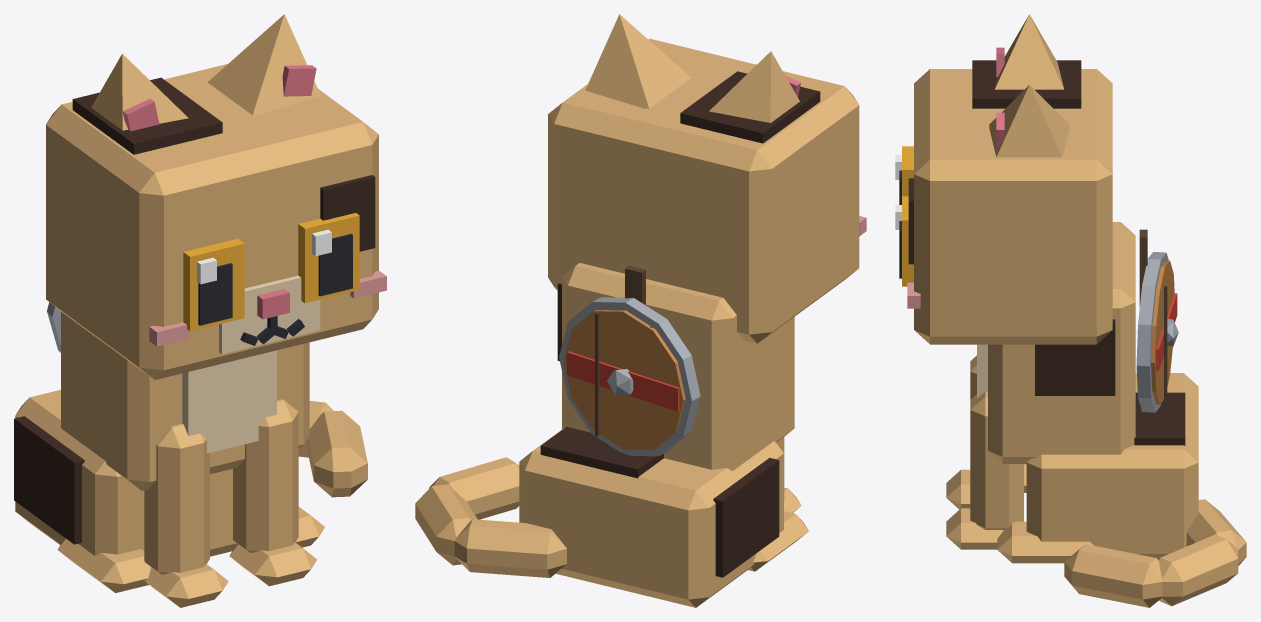
The model's file is CatCafe_Cat_Squire_Sit.glb.
3 renders of one model, left to right at view 1: azimuth 30°, elevation 25°; view 2: azimuth 150°, elevation 25°; view 3: azimuth 270°, elevation 25°, orthographic. The views are drawn at different scales.
Parts seen in each view (by area): view 1: CatCafe_Cat_Squire_Sit_Head, CatCafe_Cat_Squire_Sit_Body, CatCafe_Cat_Squire_Sit_LegF2, CatCafe_Cat_Squire_Sit_LegF1, CatCafe_Cat_Squire_Sit_EarL, CatCafe_Cat_Squire_Sit_Eye2, CatCafe_Cat_Squire_Sit_Eye1, CatCafe_Cat_Squire_Sit_Tail, CatCafe_Cat_Squire_Sit_EarR; view 2: CatCafe_Cat_Squire_Sit_Head, CatCafe_Cat_Squire_Sit_Body, CatCafe_Cat_Squire_Sit_Prop, CatCafe_Cat_Squire_Sit_Tail, CatCafe_Cat_Squire_Sit_EarL, CatCafe_Cat_Squire_Sit_EarR; view 3: CatCafe_Cat_Squire_Sit_Head, CatCafe_Cat_Squire_Sit_Body, CatCafe_Cat_Squire_Sit_Tail, CatCafe_Cat_Squire_Sit_LegF1, CatCafe_Cat_Squire_Sit_Prop, CatCafe_Cat_Squire_Sit_EarL, CatCafe_Cat_Squire_Sit_EarR, CatCafe_Cat_Squire_Sit_LegF2, CatCafe_Cat_Squire_Sit_Eye1, CatCafe_Cat_Squire_Sit_Eye2.
Boxes of the visible parts, box(x1,y1,x2,y2) form: CatCafe_Cat_Squire_Sit_Head: box(46, 64, 386, 379); CatCafe_Cat_Squire_Sit_Body: box(14, 312, 324, 592); CatCafe_Cat_Squire_Sit_LegF2: box(144, 423, 228, 607); CatCafe_Cat_Squire_Sit_LegF1: box(229, 399, 317, 586); CatCafe_Cat_Squire_Sit_EarL: box(207, 14, 320, 115); CatCafe_Cat_Squire_Sit_Eye2: box(183, 238, 244, 331); CatCafe_Cat_Squire_Sit_Eye1: box(298, 213, 359, 303); CatCafe_Cat_Squire_Sit_Tail: box(298, 401, 367, 497); CatCafe_Cat_Squire_Sit_EarR: box(91, 53, 188, 131); CatCafe_Cat_Squire_Sit_Head: box(548, 38, 866, 343); CatCafe_Cat_Squire_Sit_Body: box(519, 263, 808, 607); CatCafe_Cat_Squire_Sit_Prop: box(559, 265, 700, 456); CatCafe_Cat_Squire_Sit_Tail: box(415, 457, 566, 577); CatCafe_Cat_Squire_Sit_EarL: box(585, 14, 690, 108); CatCafe_Cat_Squire_Sit_EarR: box(709, 51, 800, 122); CatCafe_Cat_Squire_Sit_Head: box(907, 60, 1112, 344); CatCafe_Cat_Squire_Sit_Body: box(977, 222, 1198, 563); CatCafe_Cat_Squire_Sit_Tail: box(1064, 499, 1246, 607); CatCafe_Cat_Squire_Sit_LegF1: box(946, 391, 1023, 549); CatCafe_Cat_Squire_Sit_Prop: box(1136, 229, 1178, 412); CatCafe_Cat_Squire_Sit_EarL: box(989, 85, 1069, 157); CatCafe_Cat_Squire_Sit_EarR: box(994, 14, 1064, 89); CatCafe_Cat_Squire_Sit_LegF2: box(946, 355, 976, 509); CatCafe_Cat_Squire_Sit_Eye1: box(895, 196, 913, 286); CatCafe_Cat_Squire_Sit_Eye2: box(895, 146, 913, 204).
Size of the model in its own units: 1.24 by 1.85 by 1.24.
1 material, 1 textured.
